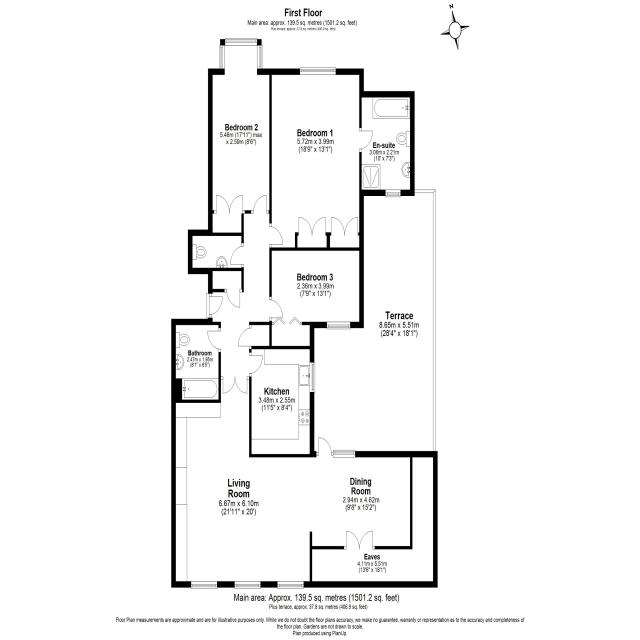DOOR: (206, 293, 223, 318), (249, 352, 263, 377), (207, 328, 221, 353), (269, 296, 283, 321), (269, 223, 283, 248), (230, 243, 244, 268), (251, 195, 269, 214), (359, 128, 373, 152), (318, 436, 333, 457)
DOUBLE DOOR: (345, 529, 374, 549), (222, 376, 248, 394)
ROOM: (171, 376, 413, 589), (269, 67, 373, 251), (208, 38, 272, 236), (269, 247, 364, 329), (249, 346, 315, 457)
WINDOW: (219, 38, 263, 69), (300, 67, 336, 75), (326, 321, 351, 330), (277, 581, 304, 589), (234, 581, 261, 589), (191, 581, 217, 589), (309, 362, 315, 393), (385, 189, 401, 197)
